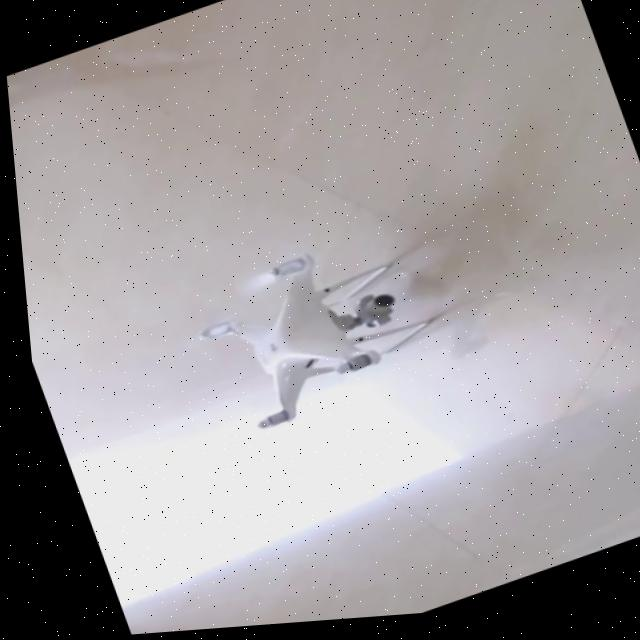drones: (145, 190, 497, 459)
